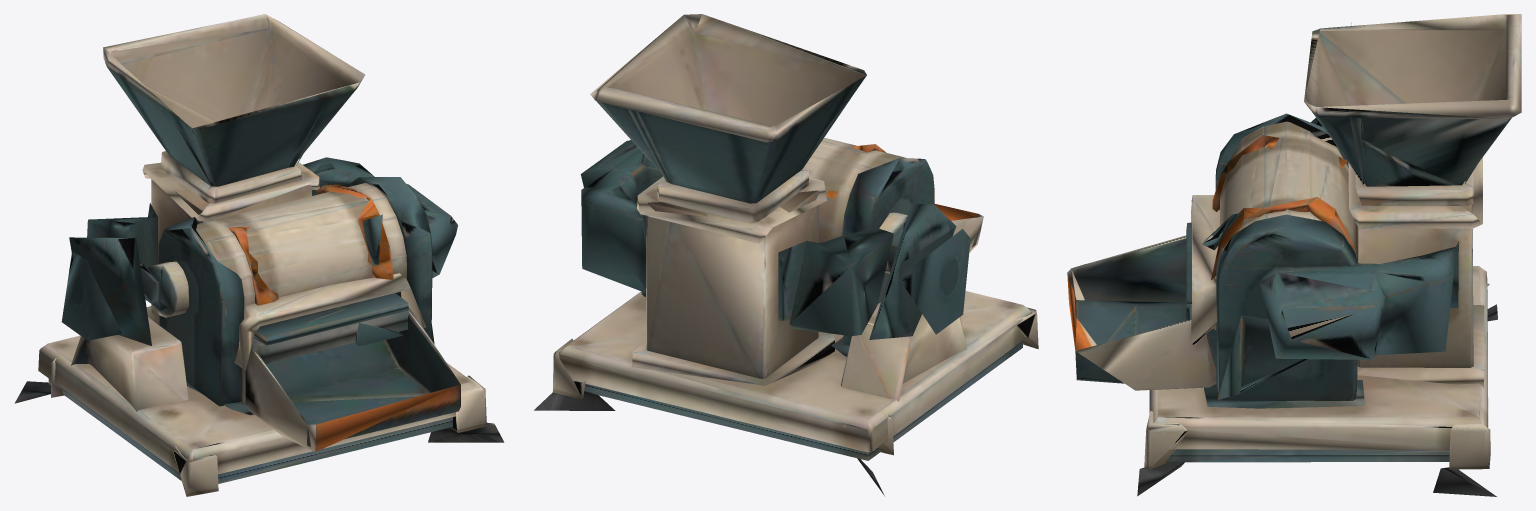
Rendered from processor-lod1.f864401142df.glb.
3 renders of one model, left to right at view 1: azimuth 30°, elevation 25°; view 2: azimuth 150°, elevation 25°; view 3: azimuth 270°, elevation 25°, orthographic. The views are drawn at different scales.
Parts seen in each view (by area): view 1: geometry_0; view 2: geometry_0; view 3: geometry_0.
Part boxes in pixels (<box>): geometry_0: <box>14,14,504,496</box>; geometry_0: <box>534,14,1038,495</box>; geometry_0: <box>1067,14,1521,496</box>.
Size of the model in its own units: 0.9824 by 0.8743 by 1.
1 material, 1 textured.
